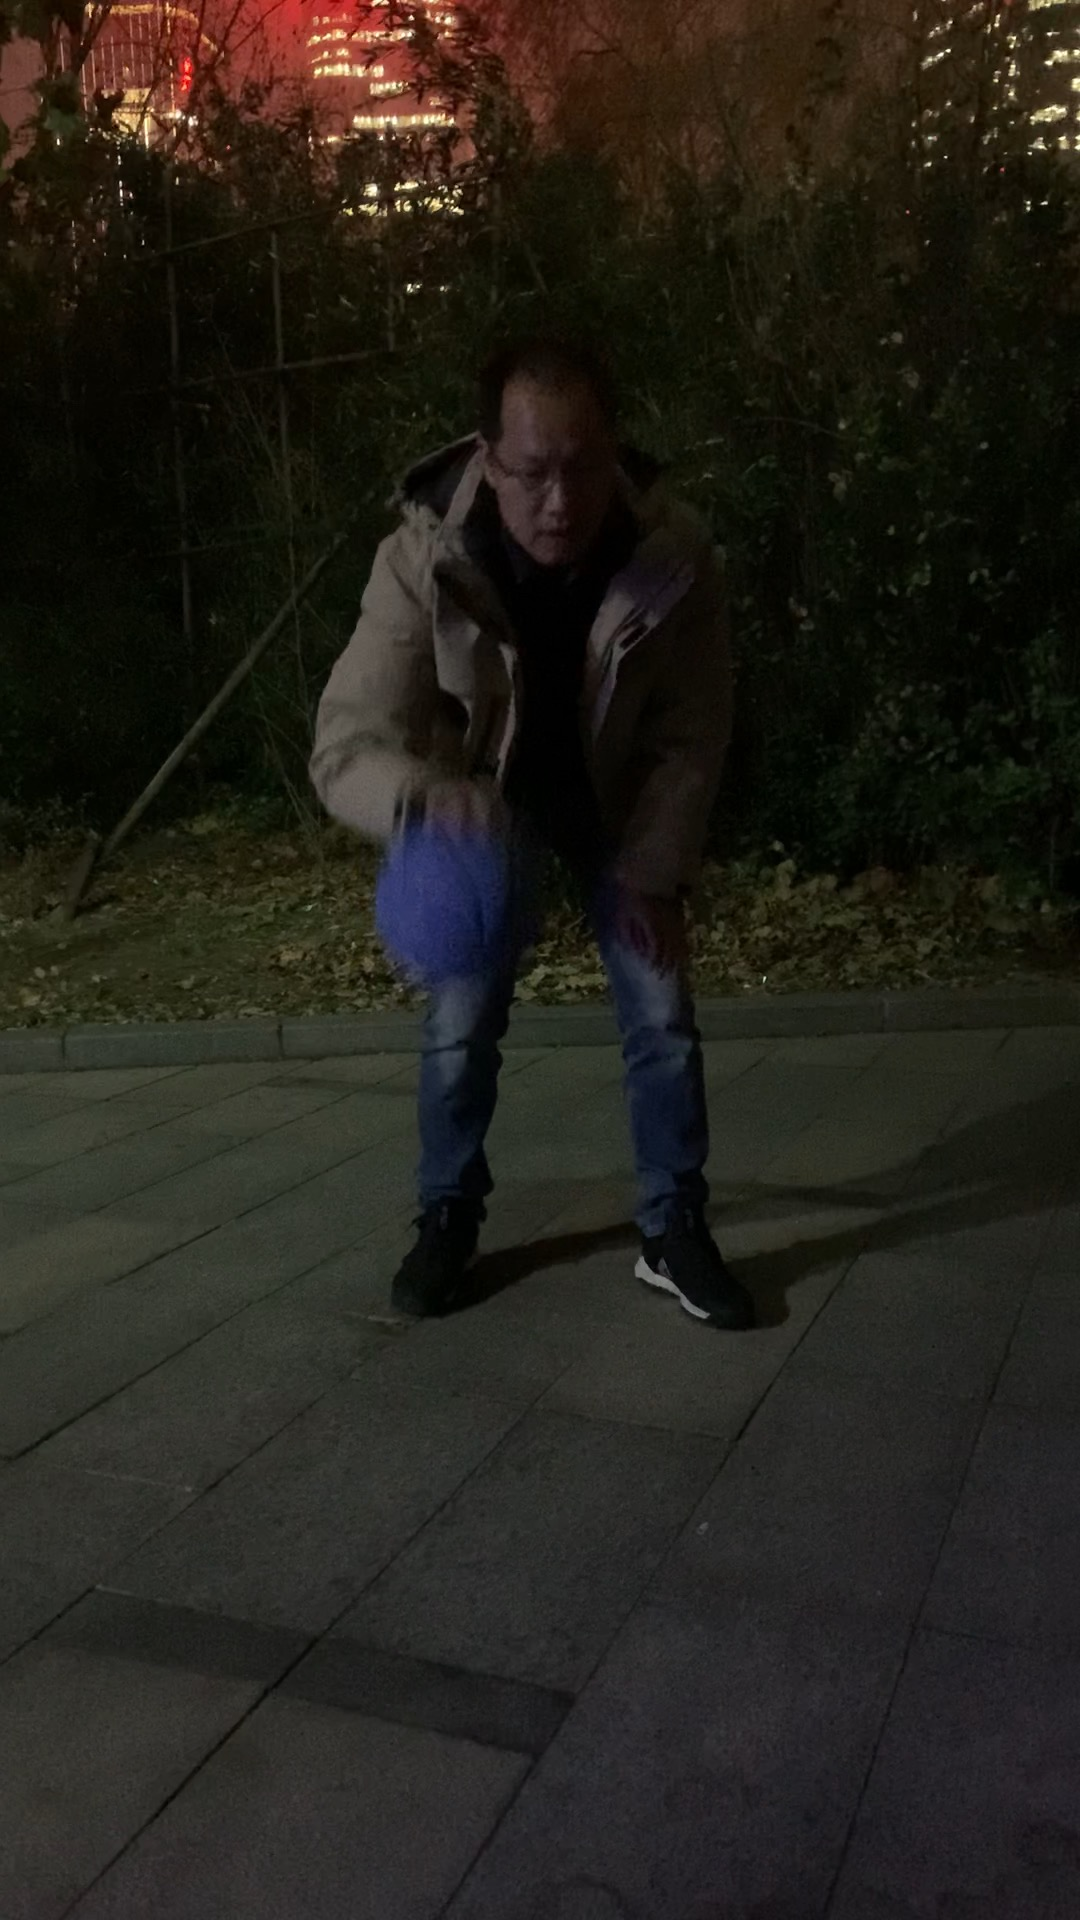ball: (378, 816, 556, 990)
